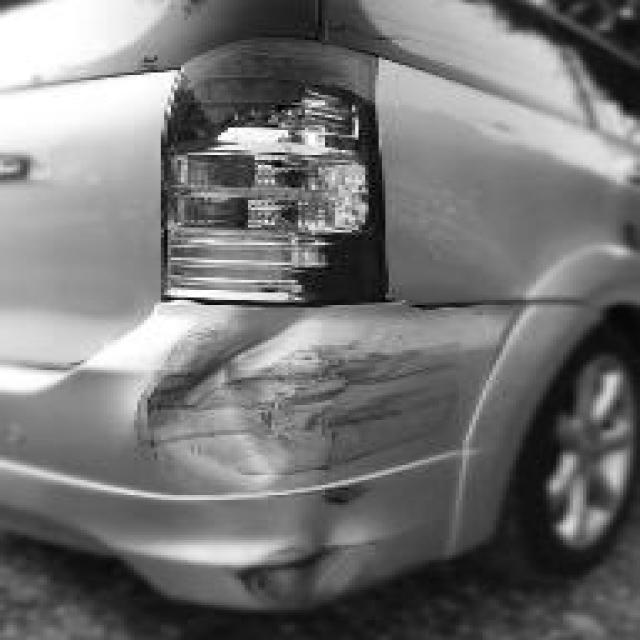Bumper: (131, 310, 483, 585)
Light: (171, 65, 399, 308)
